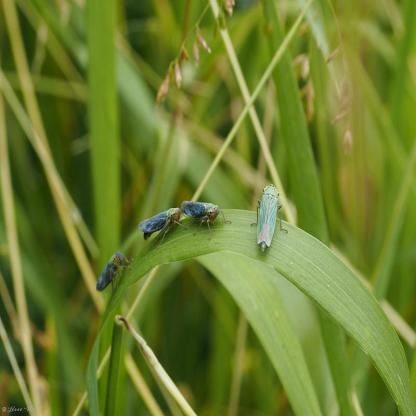Green-Leafhopper: (250, 183, 288, 260), (92, 246, 132, 295), (141, 206, 186, 242), (184, 198, 228, 228)
